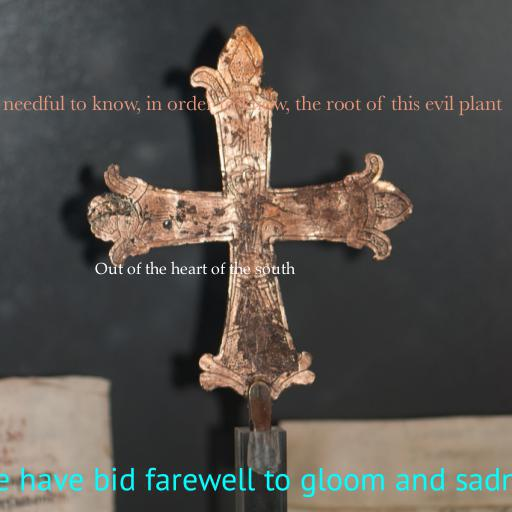Baskerville: (2, 95, 502, 116)
PT Sans: (0, 467, 512, 498)
Palatino: (95, 261, 295, 275)
